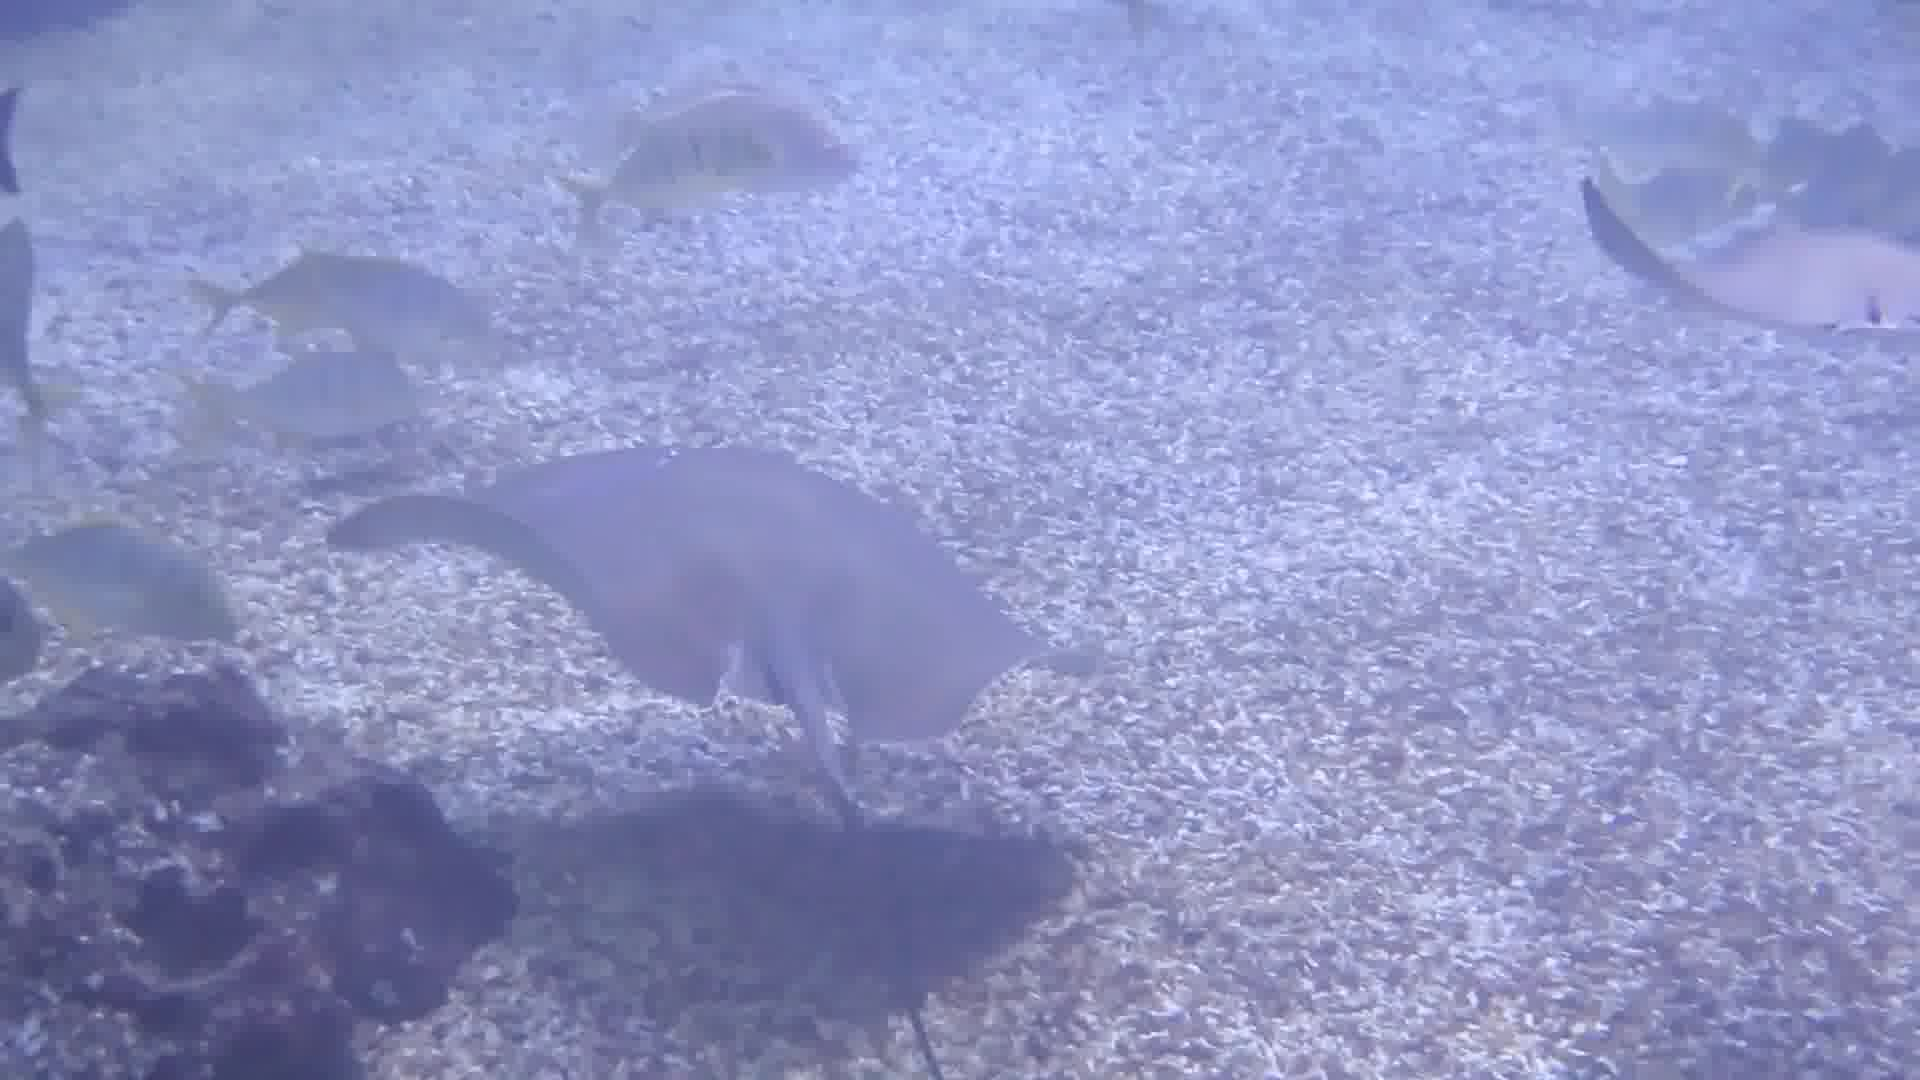Dasyatis akajei: (293, 137, 1254, 1073)
